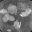people: (2, 14, 16, 22), (8, 4, 18, 15), (20, 8, 32, 17), (13, 21, 21, 30), (0, 8, 8, 15)
